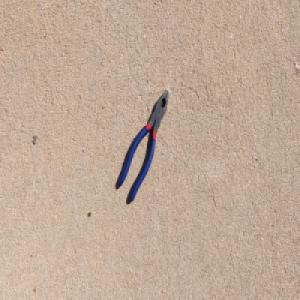Pliers: (116, 87, 170, 205)
